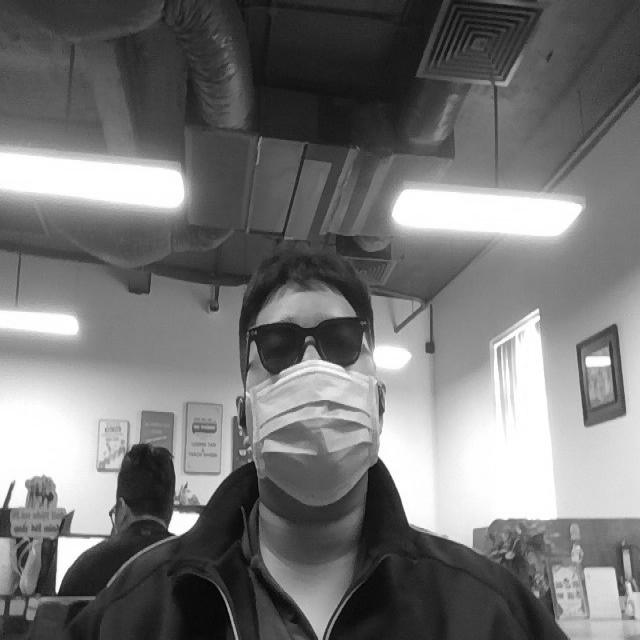fake: (247, 358, 380, 509), (241, 308, 382, 369)
